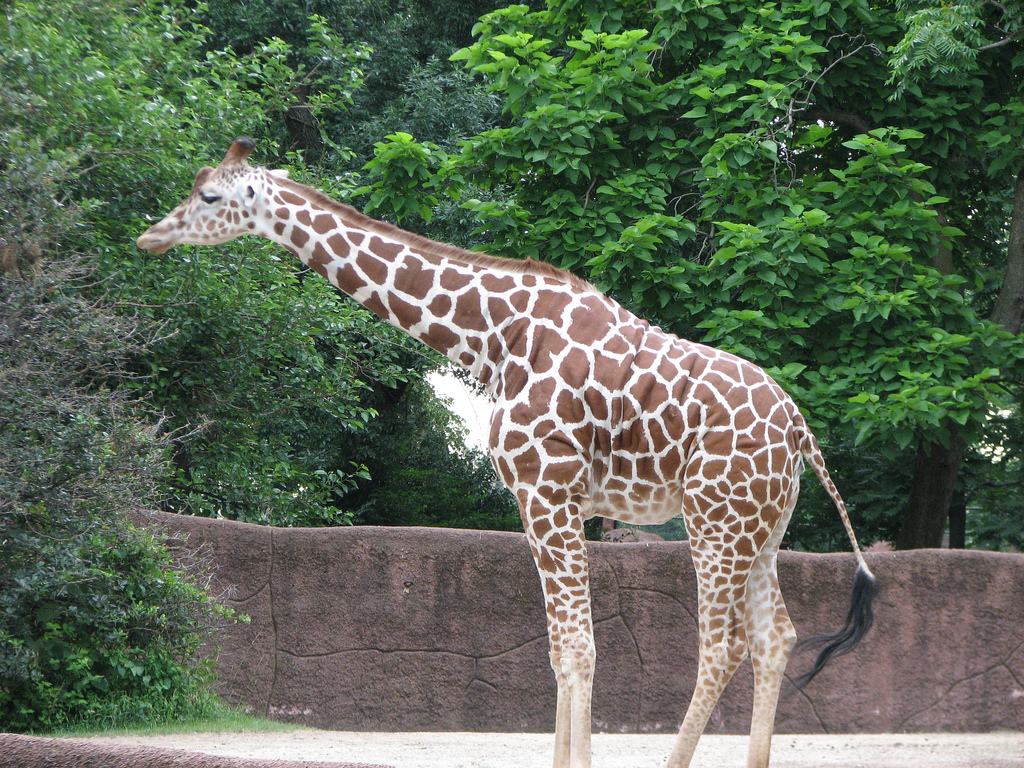giraffe: (142, 158, 872, 730)
